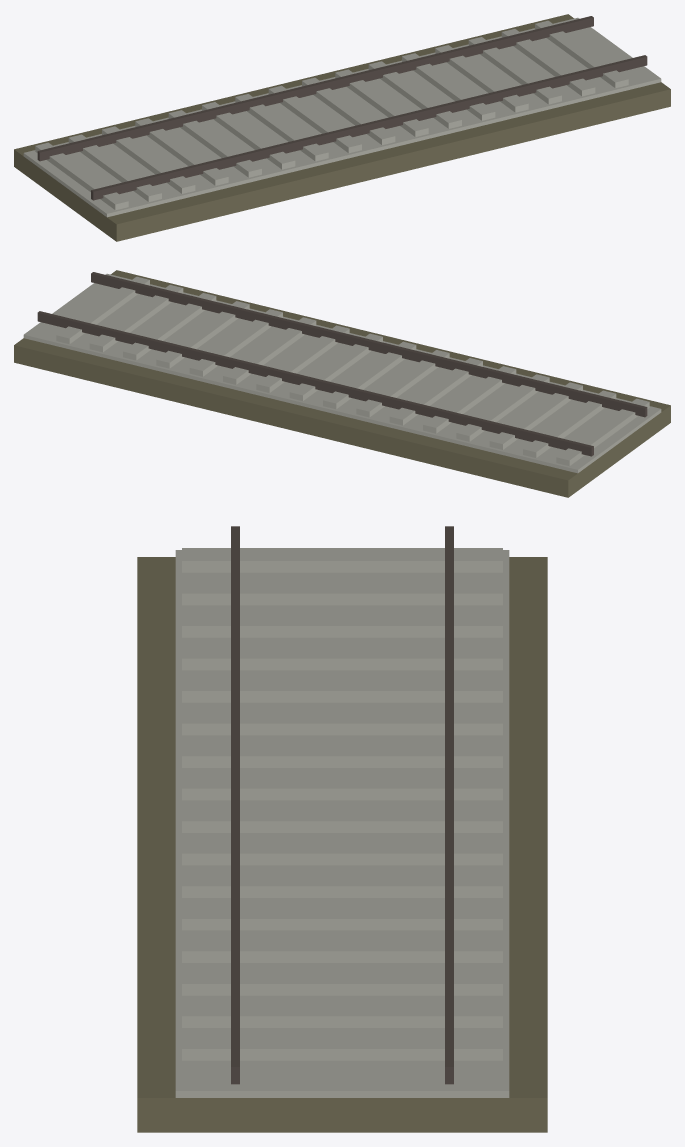
Rendered from SM_KitVia_v0_LOD0.fbx.
The picture shows the model from 3 angles, top to bottom: view 1: azimuth 30°, elevation 25°; view 2: azimuth 150°, elevation 25°; view 3: azimuth 270°, elevation 25°; orthographic projection. The views are drawn at different scales.
Visible parts, largest first — view 1: SM_bloques.kit_via_v0_LOD0; view 2: SM_bloques.kit_via_v0_LOD0; view 3: SM_bloques.kit_via_v0_LOD0.
Boxes of the visible parts, left/top/right/bottom form: SM_bloques.kit_via_v0_LOD0: left=14, top=14, right=670, bottom=241; SM_bloques.kit_via_v0_LOD0: left=14, top=270, right=670, bottom=497; SM_bloques.kit_via_v0_LOD0: left=137, top=526, right=547, bottom=1132.
Bounding box in the file's own units: 9.98 × 0.565 × 3.2.
